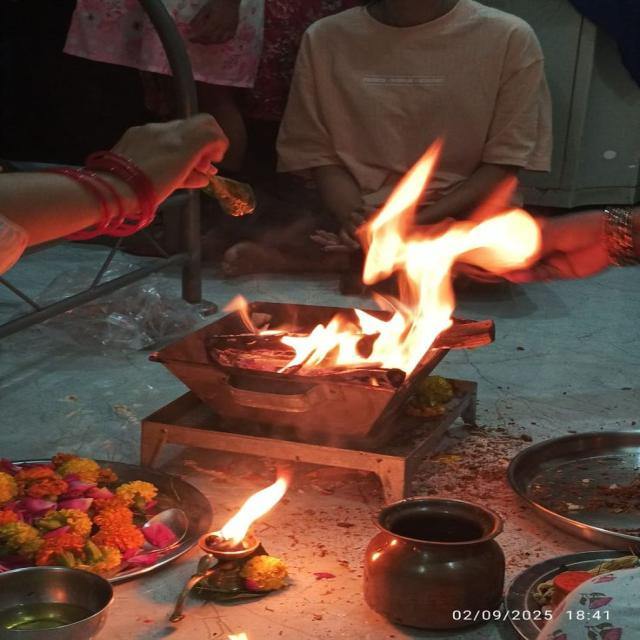fire: (362, 146, 538, 307), (278, 309, 454, 371), (215, 477, 289, 547)
